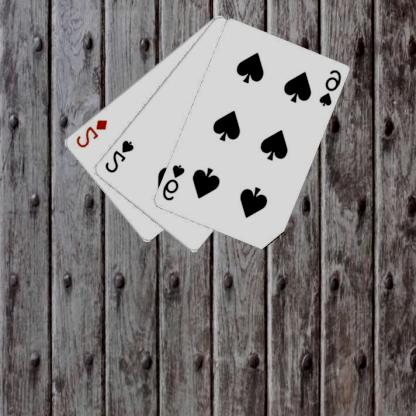2D: (75, 117, 110, 149)
2S: (103, 137, 137, 174)
6S: (161, 162, 188, 202), (318, 67, 343, 108)
